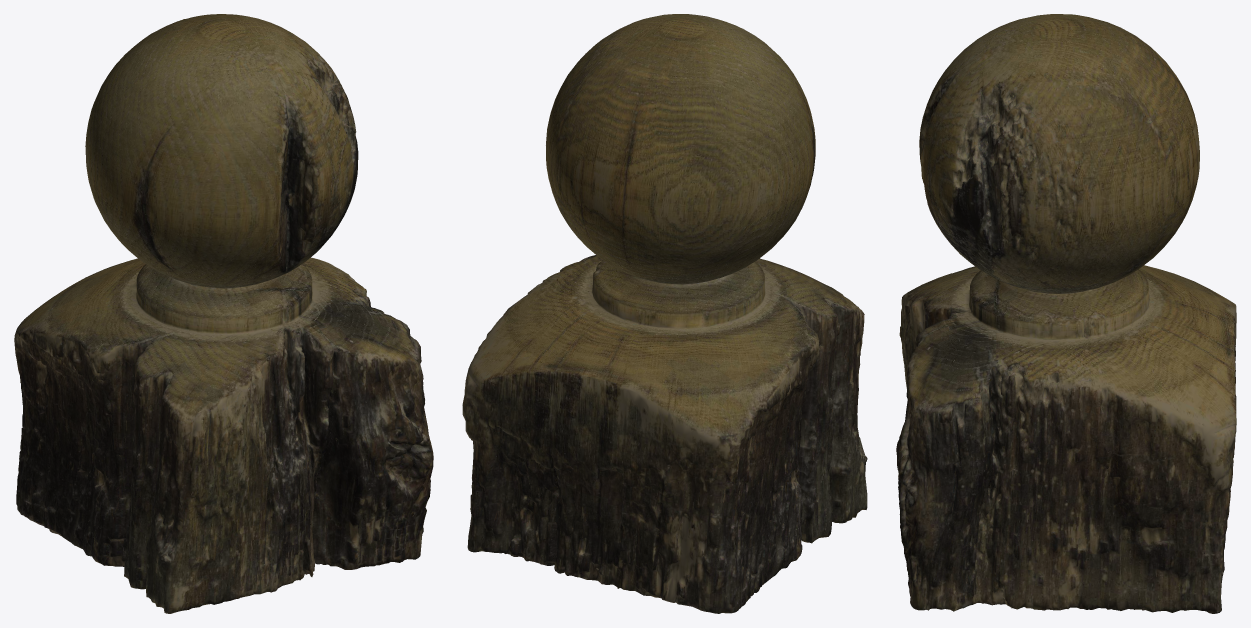
File: wood-ornament.glb
The picture shows the model from 3 angles, left to right: view 1: azimuth 30°, elevation 25°; view 2: azimuth 150°, elevation 25°; view 3: azimuth 270°, elevation 25°; orthographic projection. The views are drawn at different scales.
Visible parts, largest first — view 1: WoodOrnament; view 2: WoodOrnament; view 3: WoodOrnament.
Boxes of the visible parts, x1,y1,x2,y2 form: WoodOrnament: (14,14,433,613); WoodOrnament: (462,14,867,613); WoodOrnament: (896,14,1236,613).
Size of the model in its own units: 0.5851 by 0.9998 by 0.594.
Materials: 1 (1 with a texture image).
